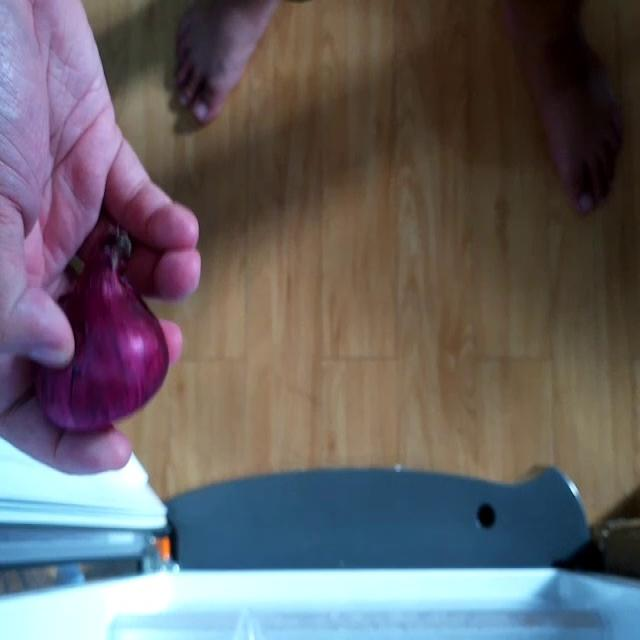onion: (29, 232, 166, 433)
